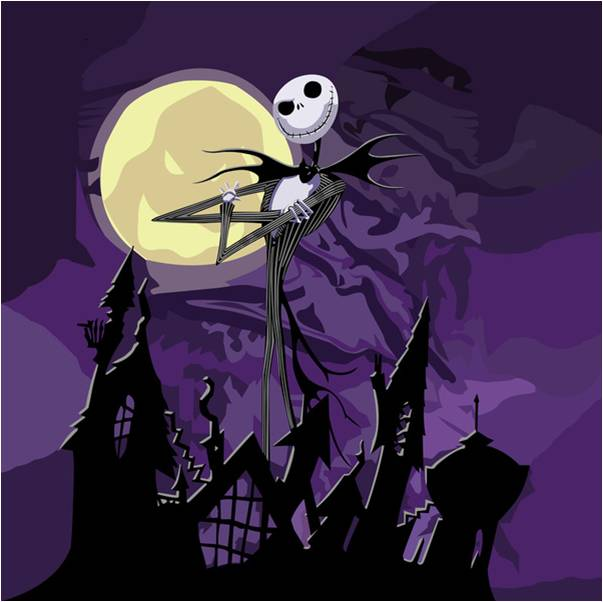Jack Skellington: (152, 73, 426, 469)
